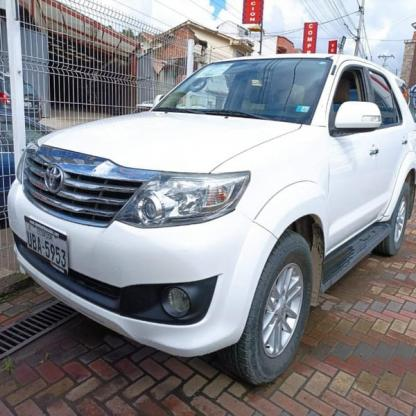Placa: (21, 214, 72, 276)
